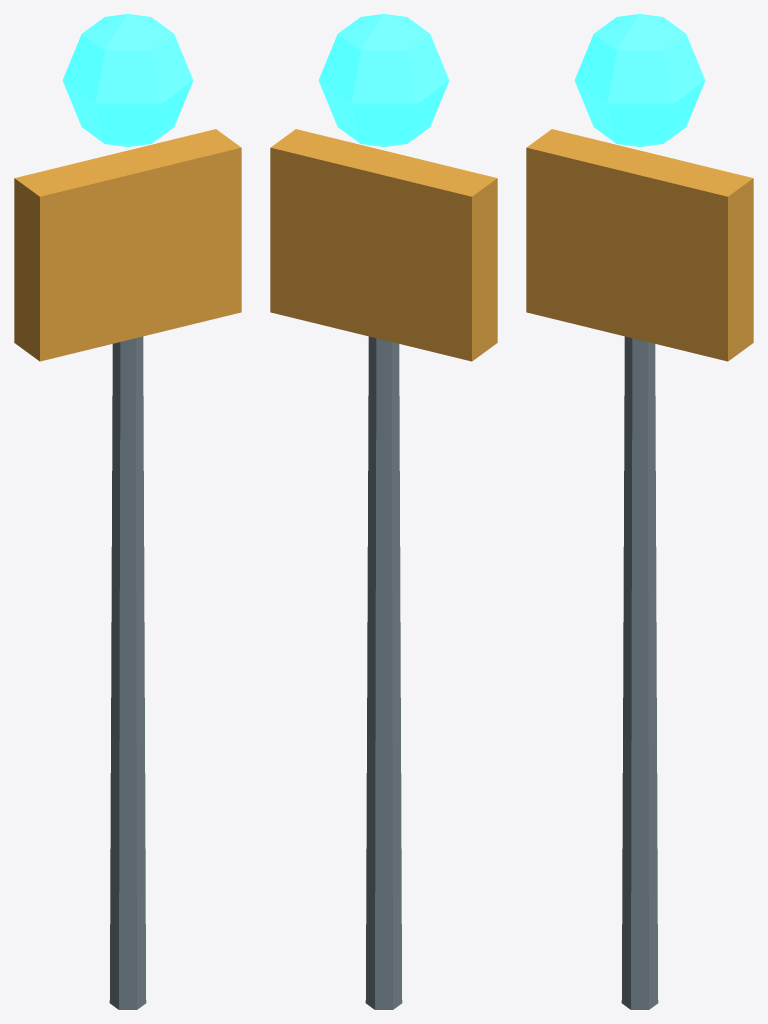
The model's file is Field_Survey_Beacon.glb.
3 renders of one model, left to right at view 1: azimuth 30°, elevation 25°; view 2: azimuth 150°, elevation 25°; view 3: azimuth 330°, elevation 25°, orthographic.
Parts seen in each view (by area): view 1: Field_Survey_Beacon; view 2: Field_Survey_Beacon; view 3: Field_Survey_Beacon.
Boxes of the visible parts, box(x1,y1,x2,y2) form: Field_Survey_Beacon: box(14, 14, 241, 1009); Field_Survey_Beacon: box(270, 14, 497, 1009); Field_Survey_Beacon: box(526, 14, 753, 1009).
Bounding box in the file's own units: 0.32 × 1.5 × 0.18.
